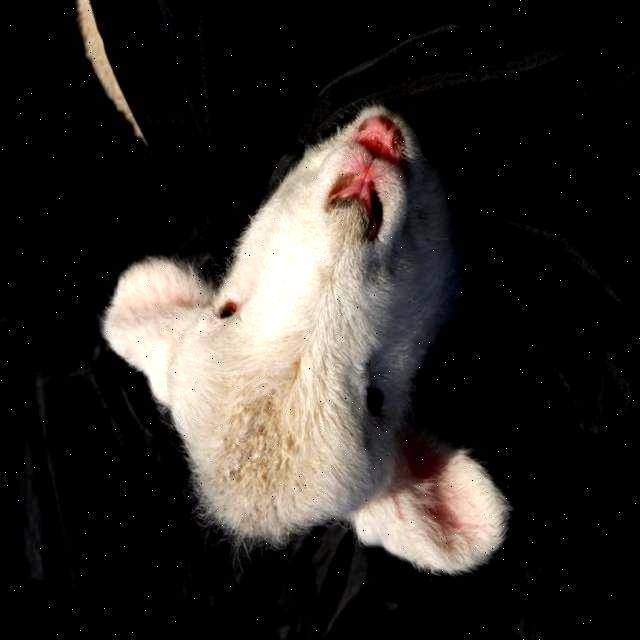sheep: (100, 102, 512, 576)
